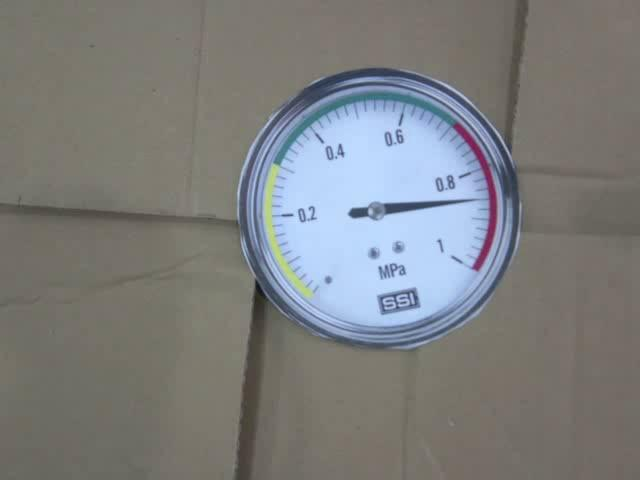Dashboard: (237, 67, 522, 349)
ssi: (378, 287, 421, 314)
